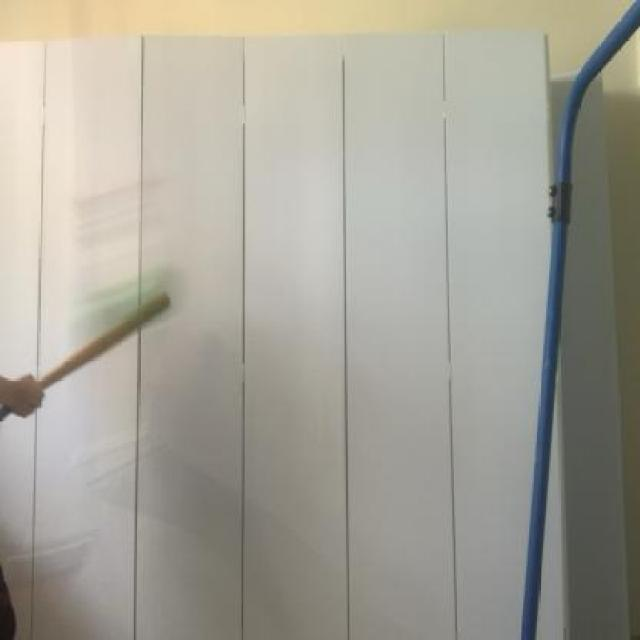baseball: (58, 257, 184, 388)
